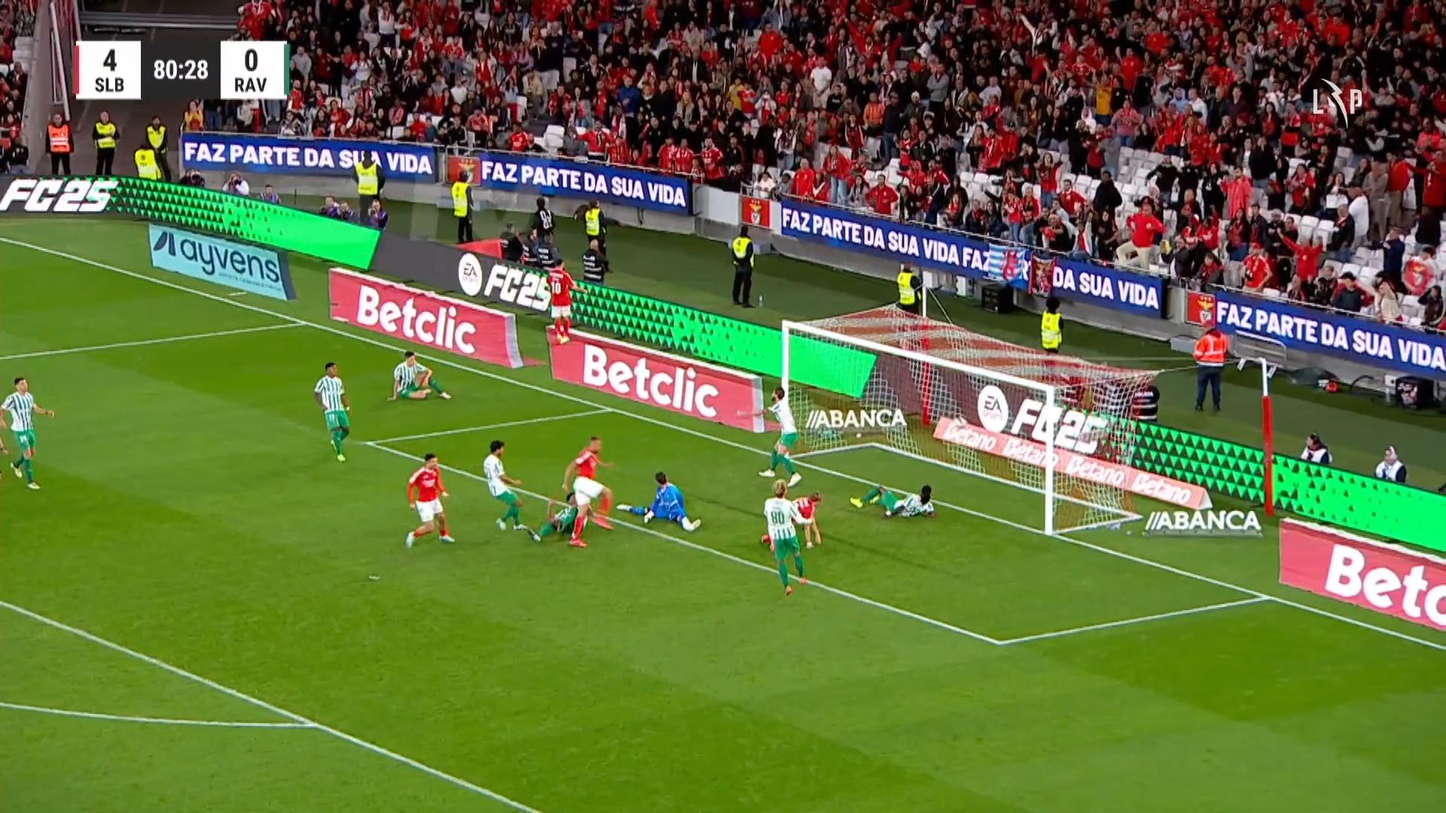goalkeeper: (615, 470, 702, 532)
player: (0, 376, 55, 490), (560, 434, 615, 547), (761, 480, 813, 595), (753, 385, 802, 488), (404, 452, 455, 548), (482, 439, 526, 531), (313, 361, 352, 462), (386, 350, 451, 401), (849, 483, 936, 519), (544, 257, 579, 345), (526, 495, 580, 543), (790, 492, 823, 548)
